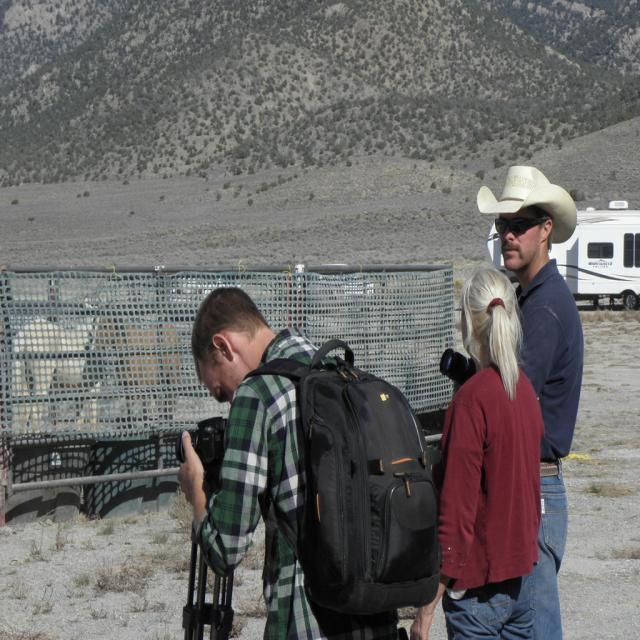backpack: (232, 356, 440, 607)
